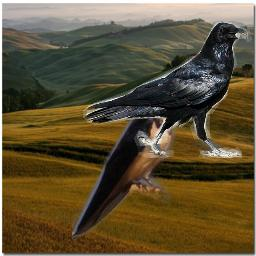Crow: (83, 22, 252, 158)
Swallow: (72, 84, 178, 241)
